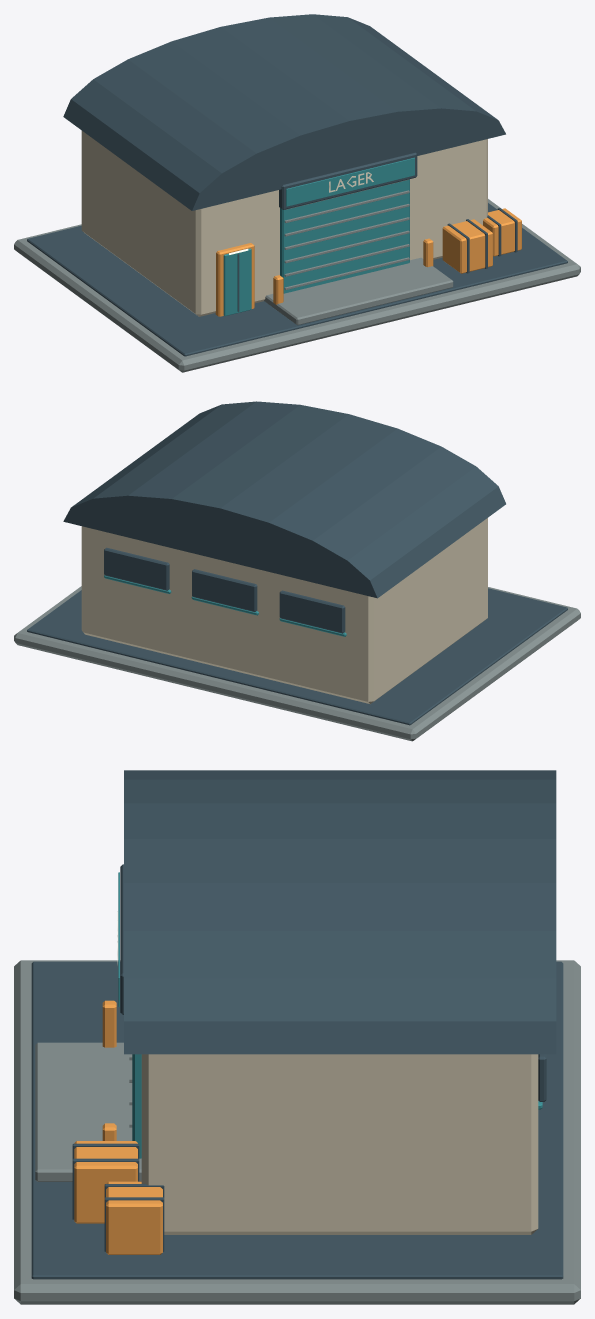
Rendered from store.glb.
3 views of the same model, one above another, from view 1: azimuth 30°, elevation 25°; view 2: azimuth 150°, elevation 25°; view 3: azimuth 270°, elevation 25° (orthographic). The views are drawn at different scales.
Parts seen in each view (by area): view 1: store; view 2: store; view 3: store.
Boxes of the visible parts, x1,y1,x2,y2 form: store: [14, 14, 580, 372]; store: [14, 401, 580, 741]; store: [14, 770, 580, 1304].
Bounding box in the file's own units: 11 × 4.73 × 8.
